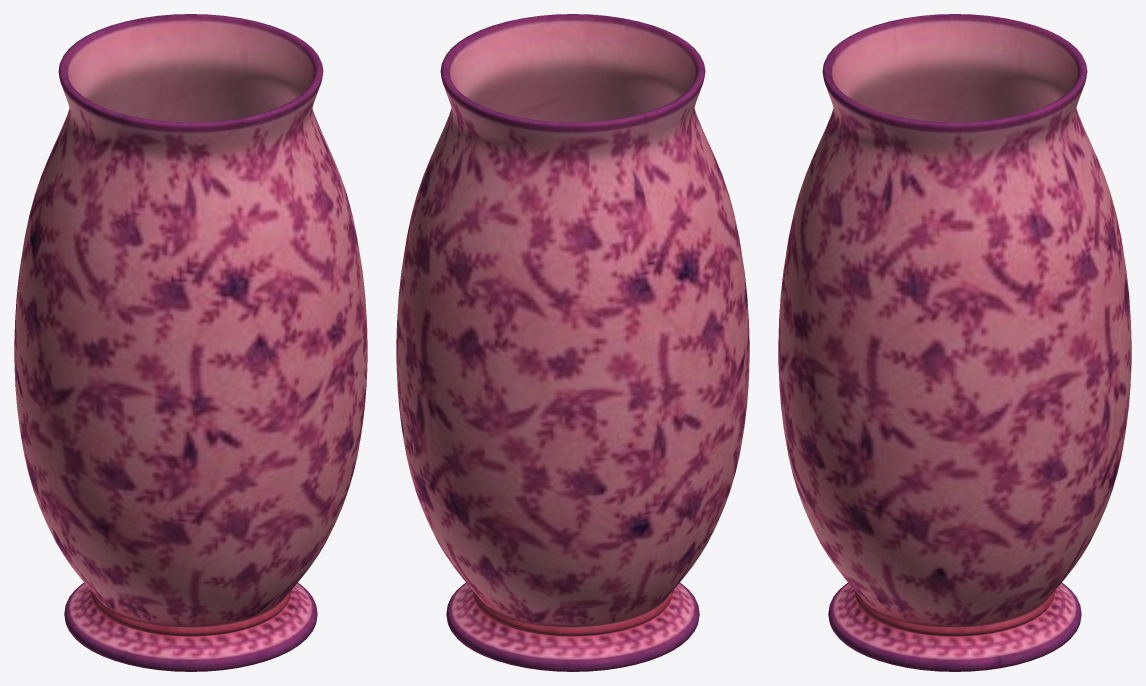
The model's file is nyb_crown_vase.glb.
3 views of the same model, side by side, from view 1: azimuth 30°, elevation 25°; view 2: azimuth 150°, elevation 25°; view 3: azimuth 270°, elevation 25° (orthographic).
Parts seen in each view (by area): view 1: antique_ceramic_vase_01; view 2: antique_ceramic_vase_01; view 3: antique_ceramic_vase_01.
Part boxes in pixels (x1,y1,x2,y2): antique_ceramic_vase_01: (14, 14, 367, 671); antique_ceramic_vase_01: (396, 14, 749, 671); antique_ceramic_vase_01: (778, 14, 1131, 671).
Size of the model in its own units: 0.255 by 0.4396 by 0.255.
Materials: 1 (1 with a texture image).
